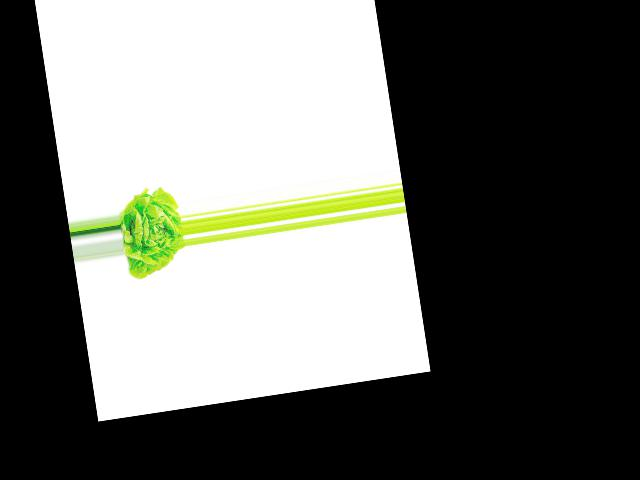lettuce: (115, 187, 189, 282)
